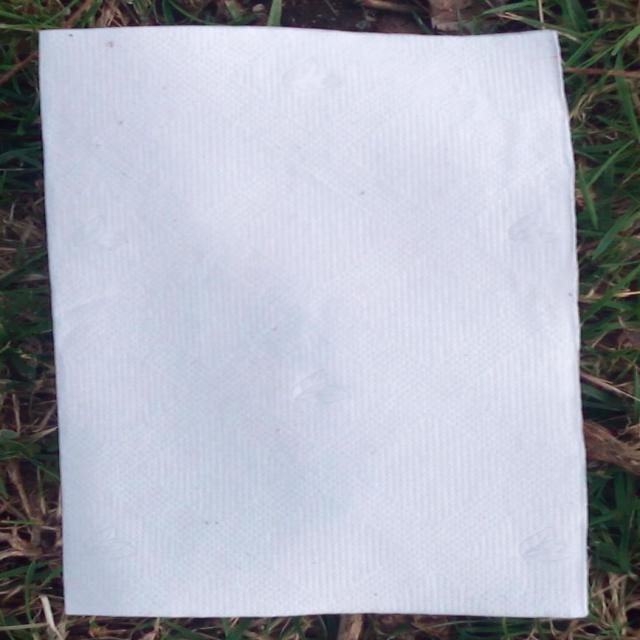litter: (31, 23, 600, 623)
